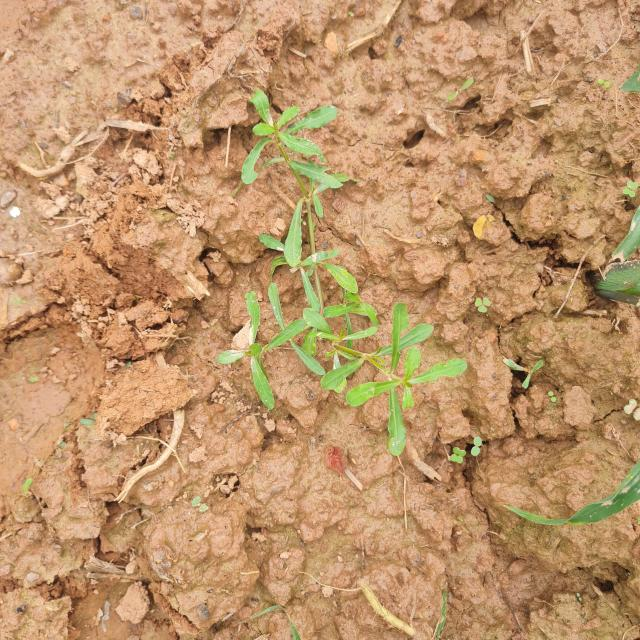weed: (212, 74, 486, 474)
